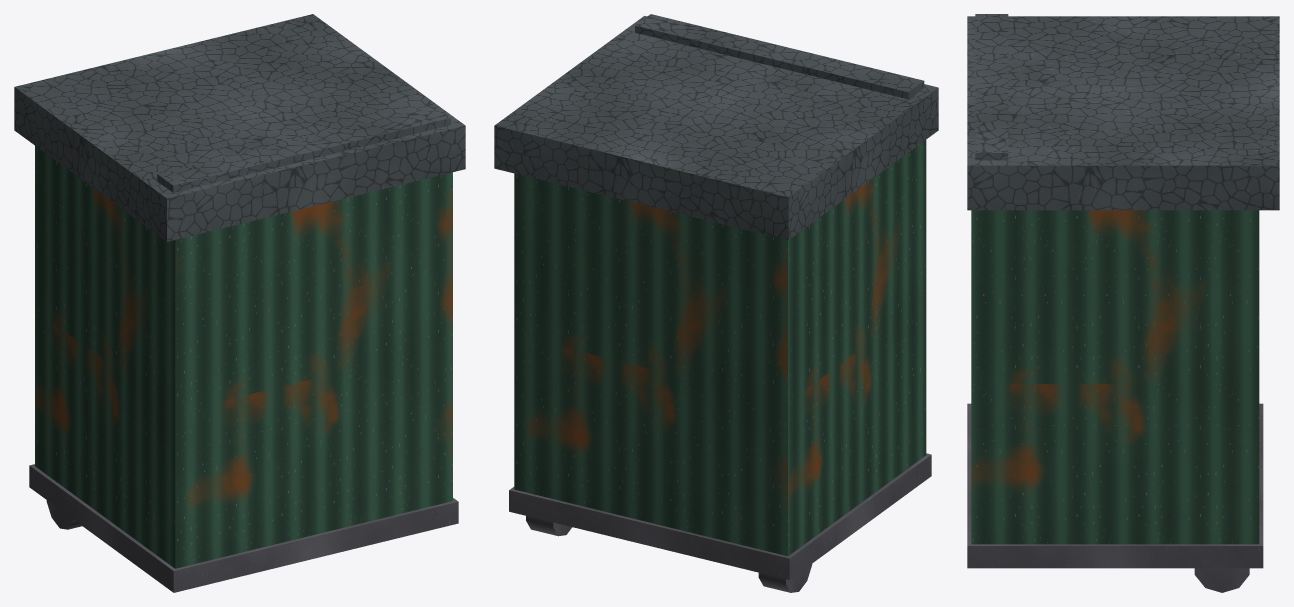
The model's file is bin.glb.
The picture shows the model from 3 angles, left to right: view 1: azimuth 30°, elevation 25°; view 2: azimuth 150°, elevation 25°; view 3: azimuth 270°, elevation 25°; orthographic projection. The views are drawn at different scales.
Parts seen in each view (by area): view 1: bin; view 2: bin; view 3: bin.
Part boxes in pixels (x1,y1,x2,y2): bin: [14, 14, 465, 592]; bin: [494, 14, 938, 592]; bin: [967, 14, 1279, 592].
Bounding box in the file's own units: 0.86 × 1.19 × 0.76.
Materials: 3 (3 with a texture image).
